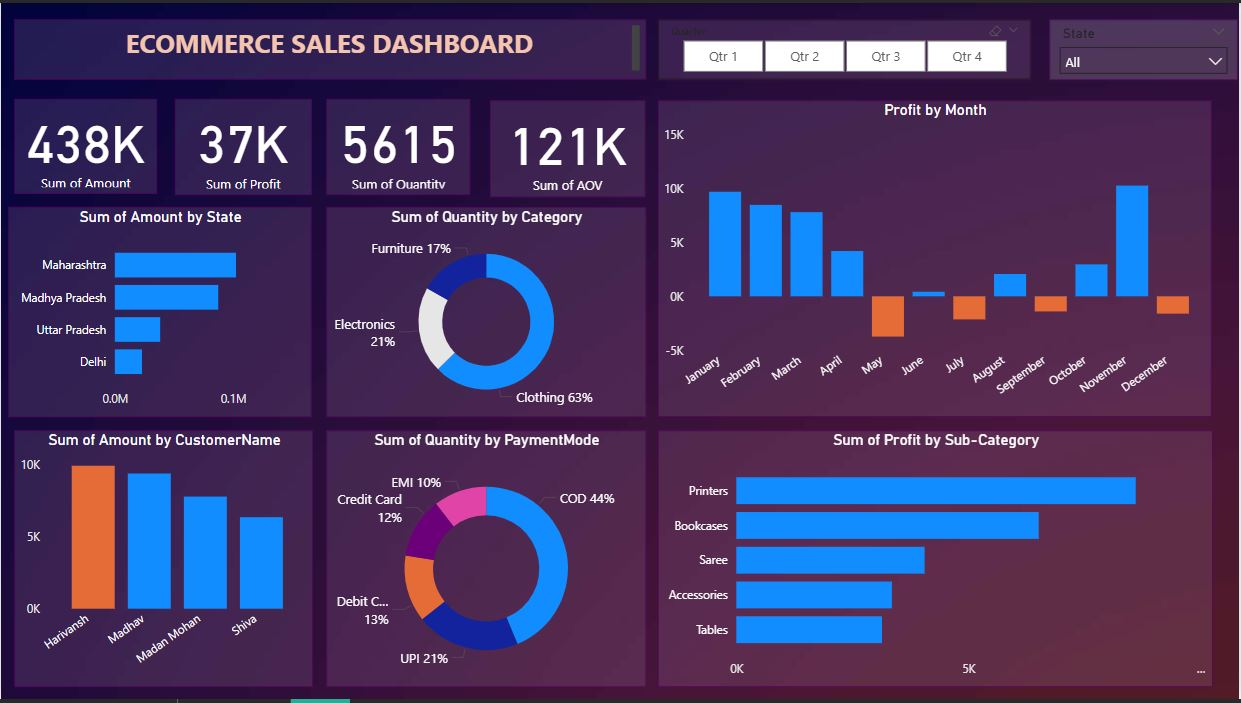

This screenshot's page, from the dashboard's own definition file:
{"tool":"powerbi","page":{"name":"Page 1","canvas":[1280,720],"ordinal":0},"visuals":[{"type":"textbox","box":[14,17.1,653.3,62.1],"z":0},{"type":"columnChart","title":" Profit by Month","fields":{"Category":["Orders.Order Date.Variation.Date Hierarchy.Month"],"Y":["Details.Profit"]},"box":[679.7,100.9,572.6,327.4],"z":1000},{"type":"barChart","fields":{"Category":["Details.Sub-Category"],"Y":["Details.Profit"]},"box":[679.7,442.2,574.1,265.3],"z":2000},{"type":"donutChart","fields":{"Category":["Details.Category"],"Y":["Details.Quantity"]},"box":[336.7,211,330.5,217.2],"z":3000},{"type":"donutChart","fields":{"Category":["Details.PaymentMode"],"Y":["Details.Quantity"]},"box":[336.7,442.2,330.5,265.3],"z":4000},{"type":"card","fields":{"Values":["Details.Amount"]},"box":[14,99.3,147.4,97.8],"z":5000},{"type":"card","fields":{"Values":["Details.Quantity"]},"box":[336.7,99.3,149,99.3],"z":6000},{"type":"card","fields":{"Values":["Details.Profit"]},"box":[180,99.3,141.2,99.3],"z":7000},{"type":"card","fields":{"Values":["Details.AOV"]},"box":[506.5,100.2,160.6,100.2],"z":8000},{"type":"barChart","fields":{"Category":["Orders.State"],"Y":["Details.Amount"]},"box":[7.8,211,313.4,217.2],"z":9000},{"type":"columnChart","fields":{"Category":["Orders.CustomerName"],"Y":["Details.Amount"]},"box":[14,442.2,308.8,265.3],"z":10000},{"type":"slicer","fields":{"Values":["Orders.Order Date.Variation.Date Hierarchy.Quarter"]},"box":[680.3,17,385.5,62.4],"z":11000},{"type":"slicer","fields":{"Values":["Orders.State"]},"box":[1084.7,17,194.6,62.4],"z":12000}]}

Visuals, with their boxes in screenshot pixels (x1, y1, x2, y2), scaled from the page's 1280x720 canvas onto the 1241x703 screenshot:
textbox: BBox(14, 17, 647, 77)
" Profit by Month" columnChart: BBox(659, 99, 1214, 418)
barChart - Details.Sub-Category x Details.Profit: BBox(659, 432, 1216, 691)
donutChart - Details.Category x Details.Quantity: BBox(326, 206, 647, 418)
donutChart - Details.PaymentMode x Details.Quantity: BBox(326, 432, 647, 691)
card - Details.Amount: BBox(14, 97, 156, 192)
card - Details.Quantity: BBox(326, 97, 471, 194)
card - Details.Profit: BBox(175, 97, 311, 194)
card - Details.AOV: BBox(491, 98, 647, 196)
barChart - Orders.State x Details.Amount: BBox(8, 206, 311, 418)
columnChart - Orders.CustomerName x Details.Amount: BBox(14, 432, 313, 691)
slicer - Orders.Order Date.Variation.Date Hierarchy.Quarter: BBox(660, 17, 1033, 78)
slicer - Orders.State: BBox(1052, 17, 1240, 78)
